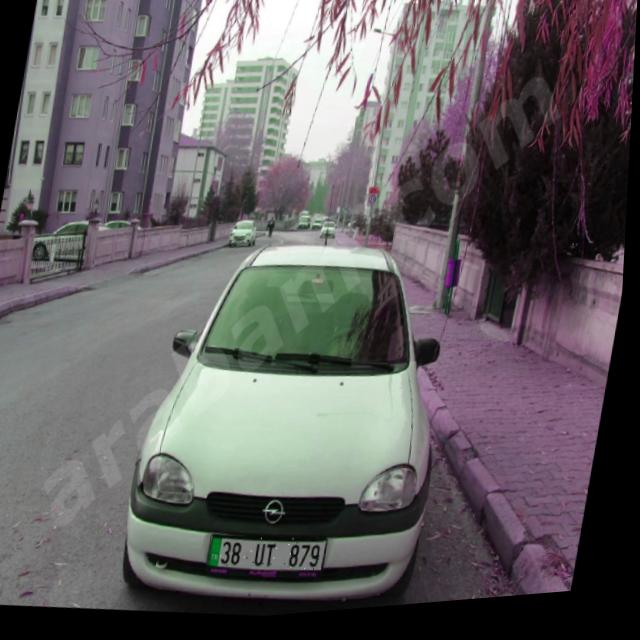license_plate: (213, 531, 333, 585)
